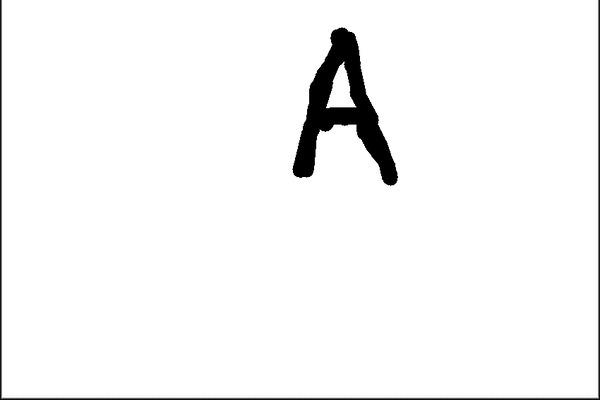A: (277, 17, 415, 200)
